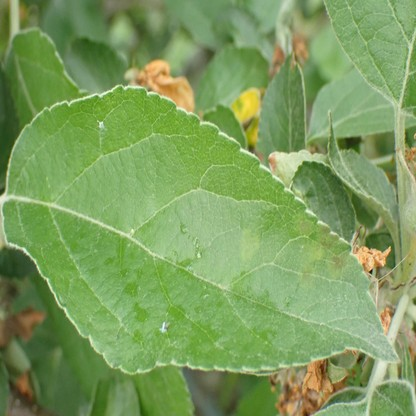powdery_mildew: (346, 317, 397, 360), (402, 179, 416, 230)
scab: (308, 223, 339, 260), (240, 229, 259, 262), (327, 253, 347, 279), (295, 216, 311, 237), (300, 265, 315, 284)
